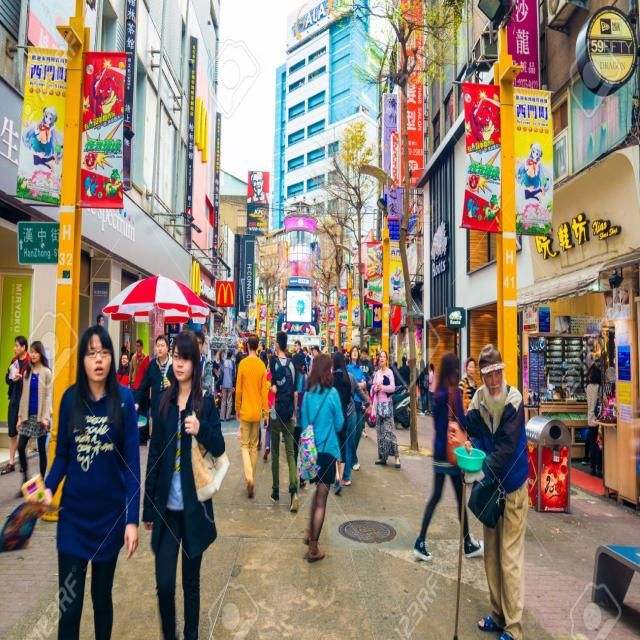body: (32, 321, 143, 639), (141, 328, 227, 640), (461, 340, 532, 640), (412, 350, 488, 562), (295, 350, 346, 566), (267, 327, 301, 515), (233, 331, 270, 500), (15, 340, 54, 482), (0, 333, 33, 477), (369, 348, 402, 471), (134, 333, 174, 430), (341, 370, 373, 487), (343, 343, 368, 474), (332, 350, 352, 497), (20, 104, 60, 177), (238, 340, 263, 454), (585, 366, 609, 478), (291, 352, 309, 490), (512, 138, 548, 206), (353, 343, 375, 439), (262, 368, 276, 460), (457, 356, 478, 417), (219, 350, 236, 422), (194, 330, 213, 393), (127, 339, 148, 390), (212, 348, 225, 418), (246, 168, 268, 208), (418, 356, 430, 415), (115, 351, 132, 387), (294, 339, 310, 376), (603, 290, 629, 309), (255, 341, 277, 363), (389, 264, 403, 296), (428, 362, 436, 416), (580, 427, 590, 466), (398, 355, 410, 386), (308, 344, 320, 371), (118, 344, 130, 369), (310, 242, 319, 274), (586, 361, 598, 385), (302, 346, 312, 374), (523, 305, 537, 324), (259, 342, 268, 370), (234, 352, 244, 377), (392, 360, 400, 388), (370, 352, 380, 373), (95, 310, 105, 326), (416, 364, 419, 412), (201, 321, 210, 337), (341, 348, 350, 364), (330, 344, 339, 359), (125, 349, 134, 363), (352, 302, 359, 320), (278, 429, 286, 444), (285, 347, 292, 359), (167, 345, 173, 358), (388, 354, 392, 366)
